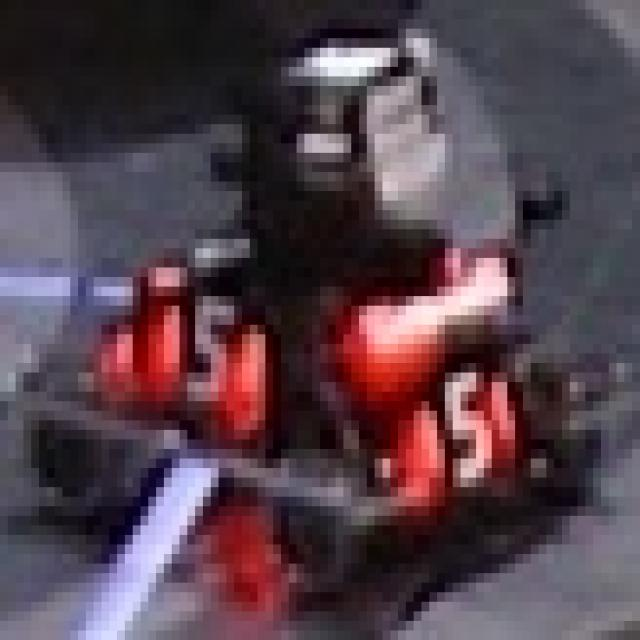R5: (148, 286, 273, 411), (406, 354, 523, 487)
